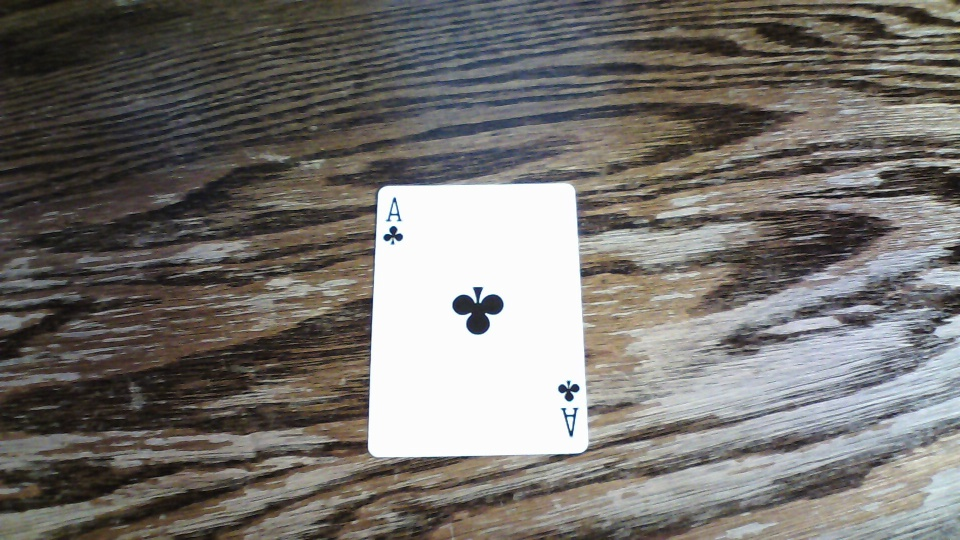ace: (367, 181, 589, 457)
